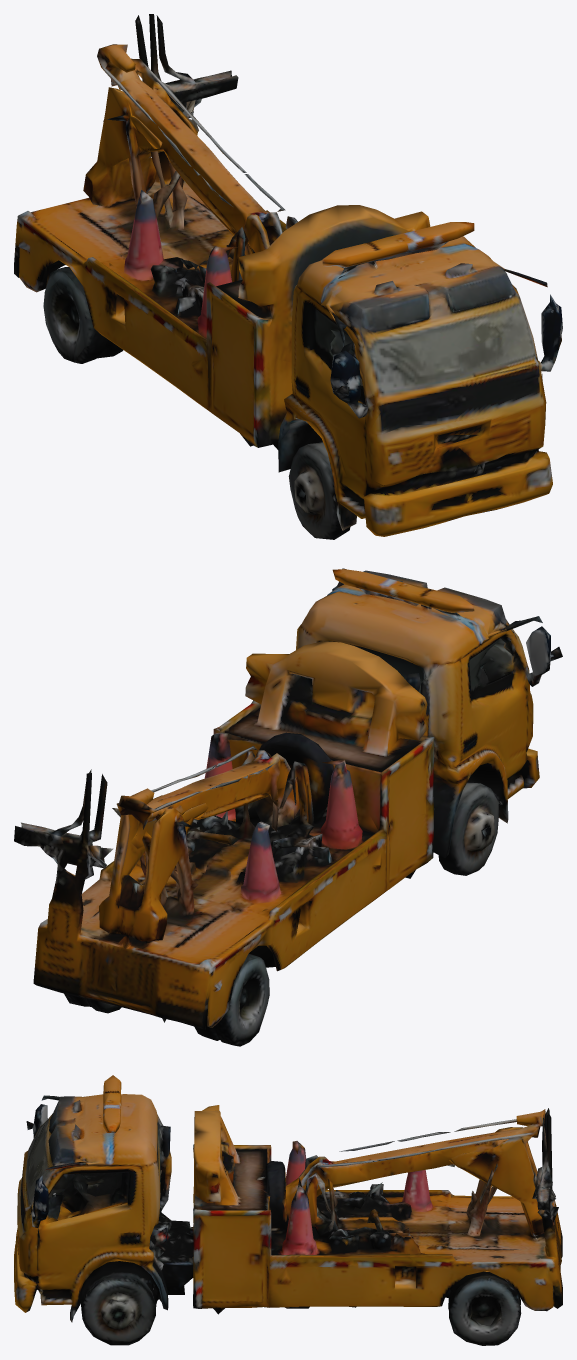
Rendered from mobil_derek.glb.
3 renders of one model, top to bottom at view 1: azimuth 30°, elevation 25°; view 2: azimuth 150°, elevation 25°; view 3: azimuth 270°, elevation 25°, orthographic. The views are drawn at different scales.
Visible parts, largest first — view 1: tripo_node_c9e404f8; view 2: tripo_node_c9e404f8; view 3: tripo_node_c9e404f8.
Boxes of the visible parts, bbox=[...] form: tripo_node_c9e404f8: bbox=[14, 14, 562, 539]; tripo_node_c9e404f8: bbox=[14, 568, 562, 1046]; tripo_node_c9e404f8: bbox=[14, 1075, 562, 1345].
Bounding box in the file's own units: 37.79 × 43.6 × 100.
1 material, 1 textured.
